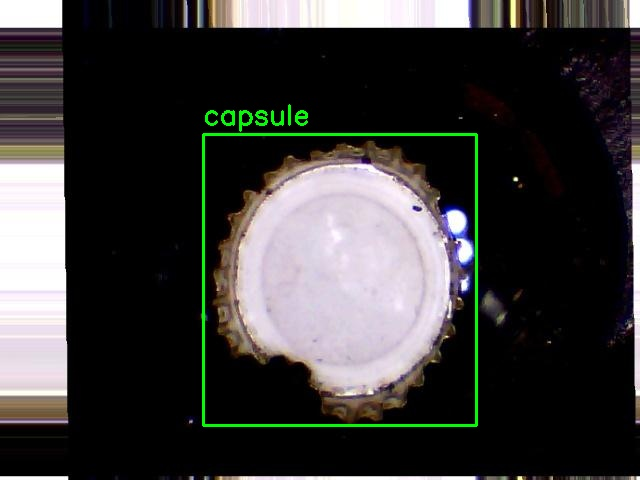capsule: (203, 134, 476, 425)
